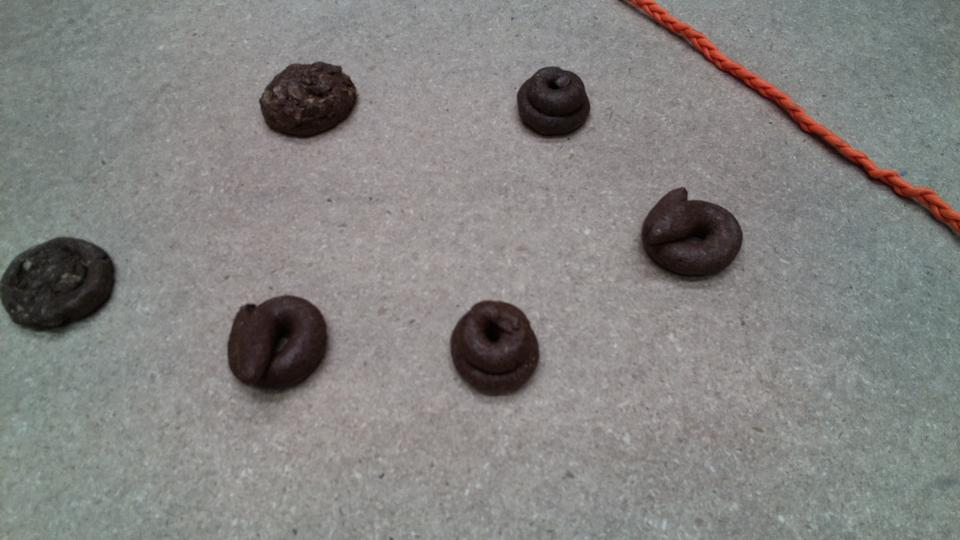poop: (1, 231, 120, 338), (224, 292, 331, 397), (639, 185, 747, 283), (447, 298, 543, 399), (257, 58, 361, 141), (513, 62, 593, 142)
rope: (643, 1, 960, 218)
